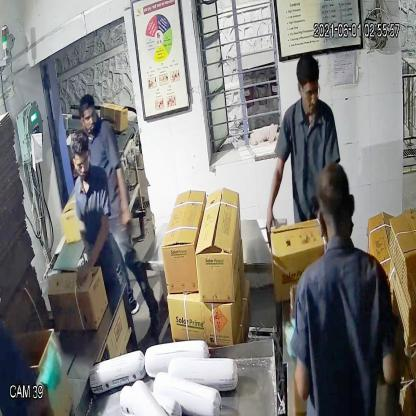goggles: (297, 80, 322, 102), (70, 151, 93, 173)
